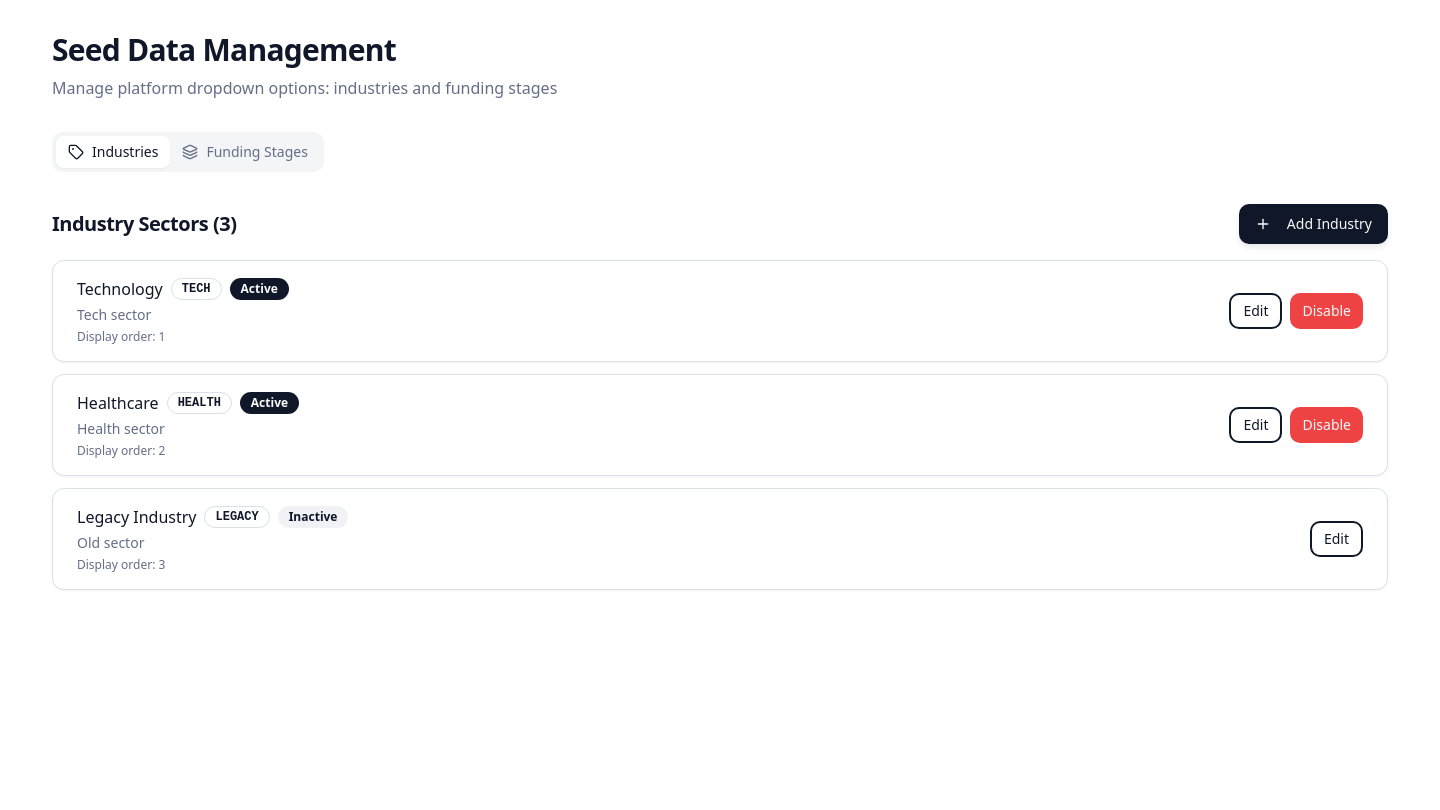
Test: US-SEED-001: Admin Manage Industries › Edit Industry › should open edit form with existing data when clicking Edit
Expected: the text "Technology" is shown, left=77, top=277, right=163, bottom=301
Click the button "Edit" in the row of "Technology". click: (1256, 311)
box: left=1229, top=293, right=1282, bottom=329
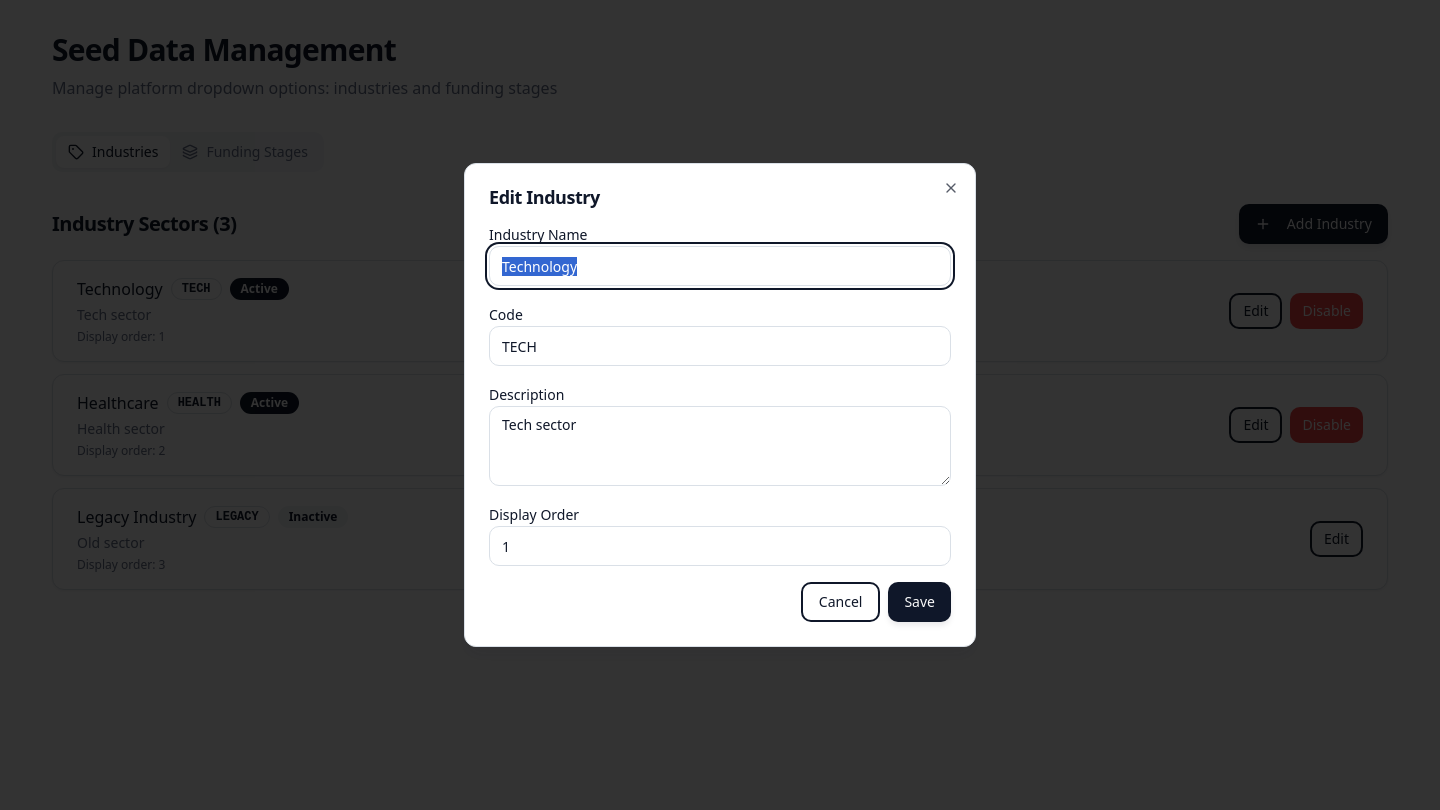
Expected: the field showing "Technology" is shown, left=489, top=246, right=951, bottom=286
